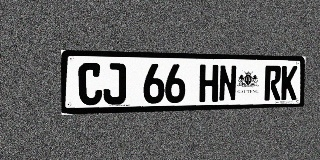6: (143, 64, 165, 104), (165, 64, 185, 103)
C: (78, 63, 102, 105)
H: (199, 64, 218, 102)
J: (103, 63, 126, 105)
K: (281, 66, 297, 100)
N: (218, 65, 237, 102)
R: (264, 65, 281, 101)
